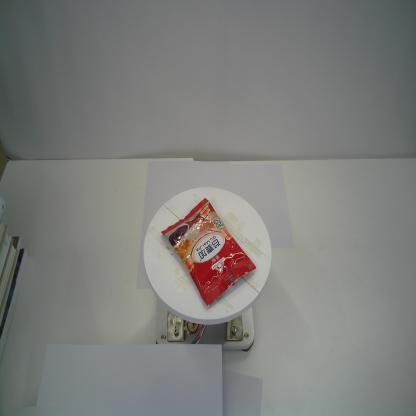Instant Drink: (158, 195, 257, 306)
